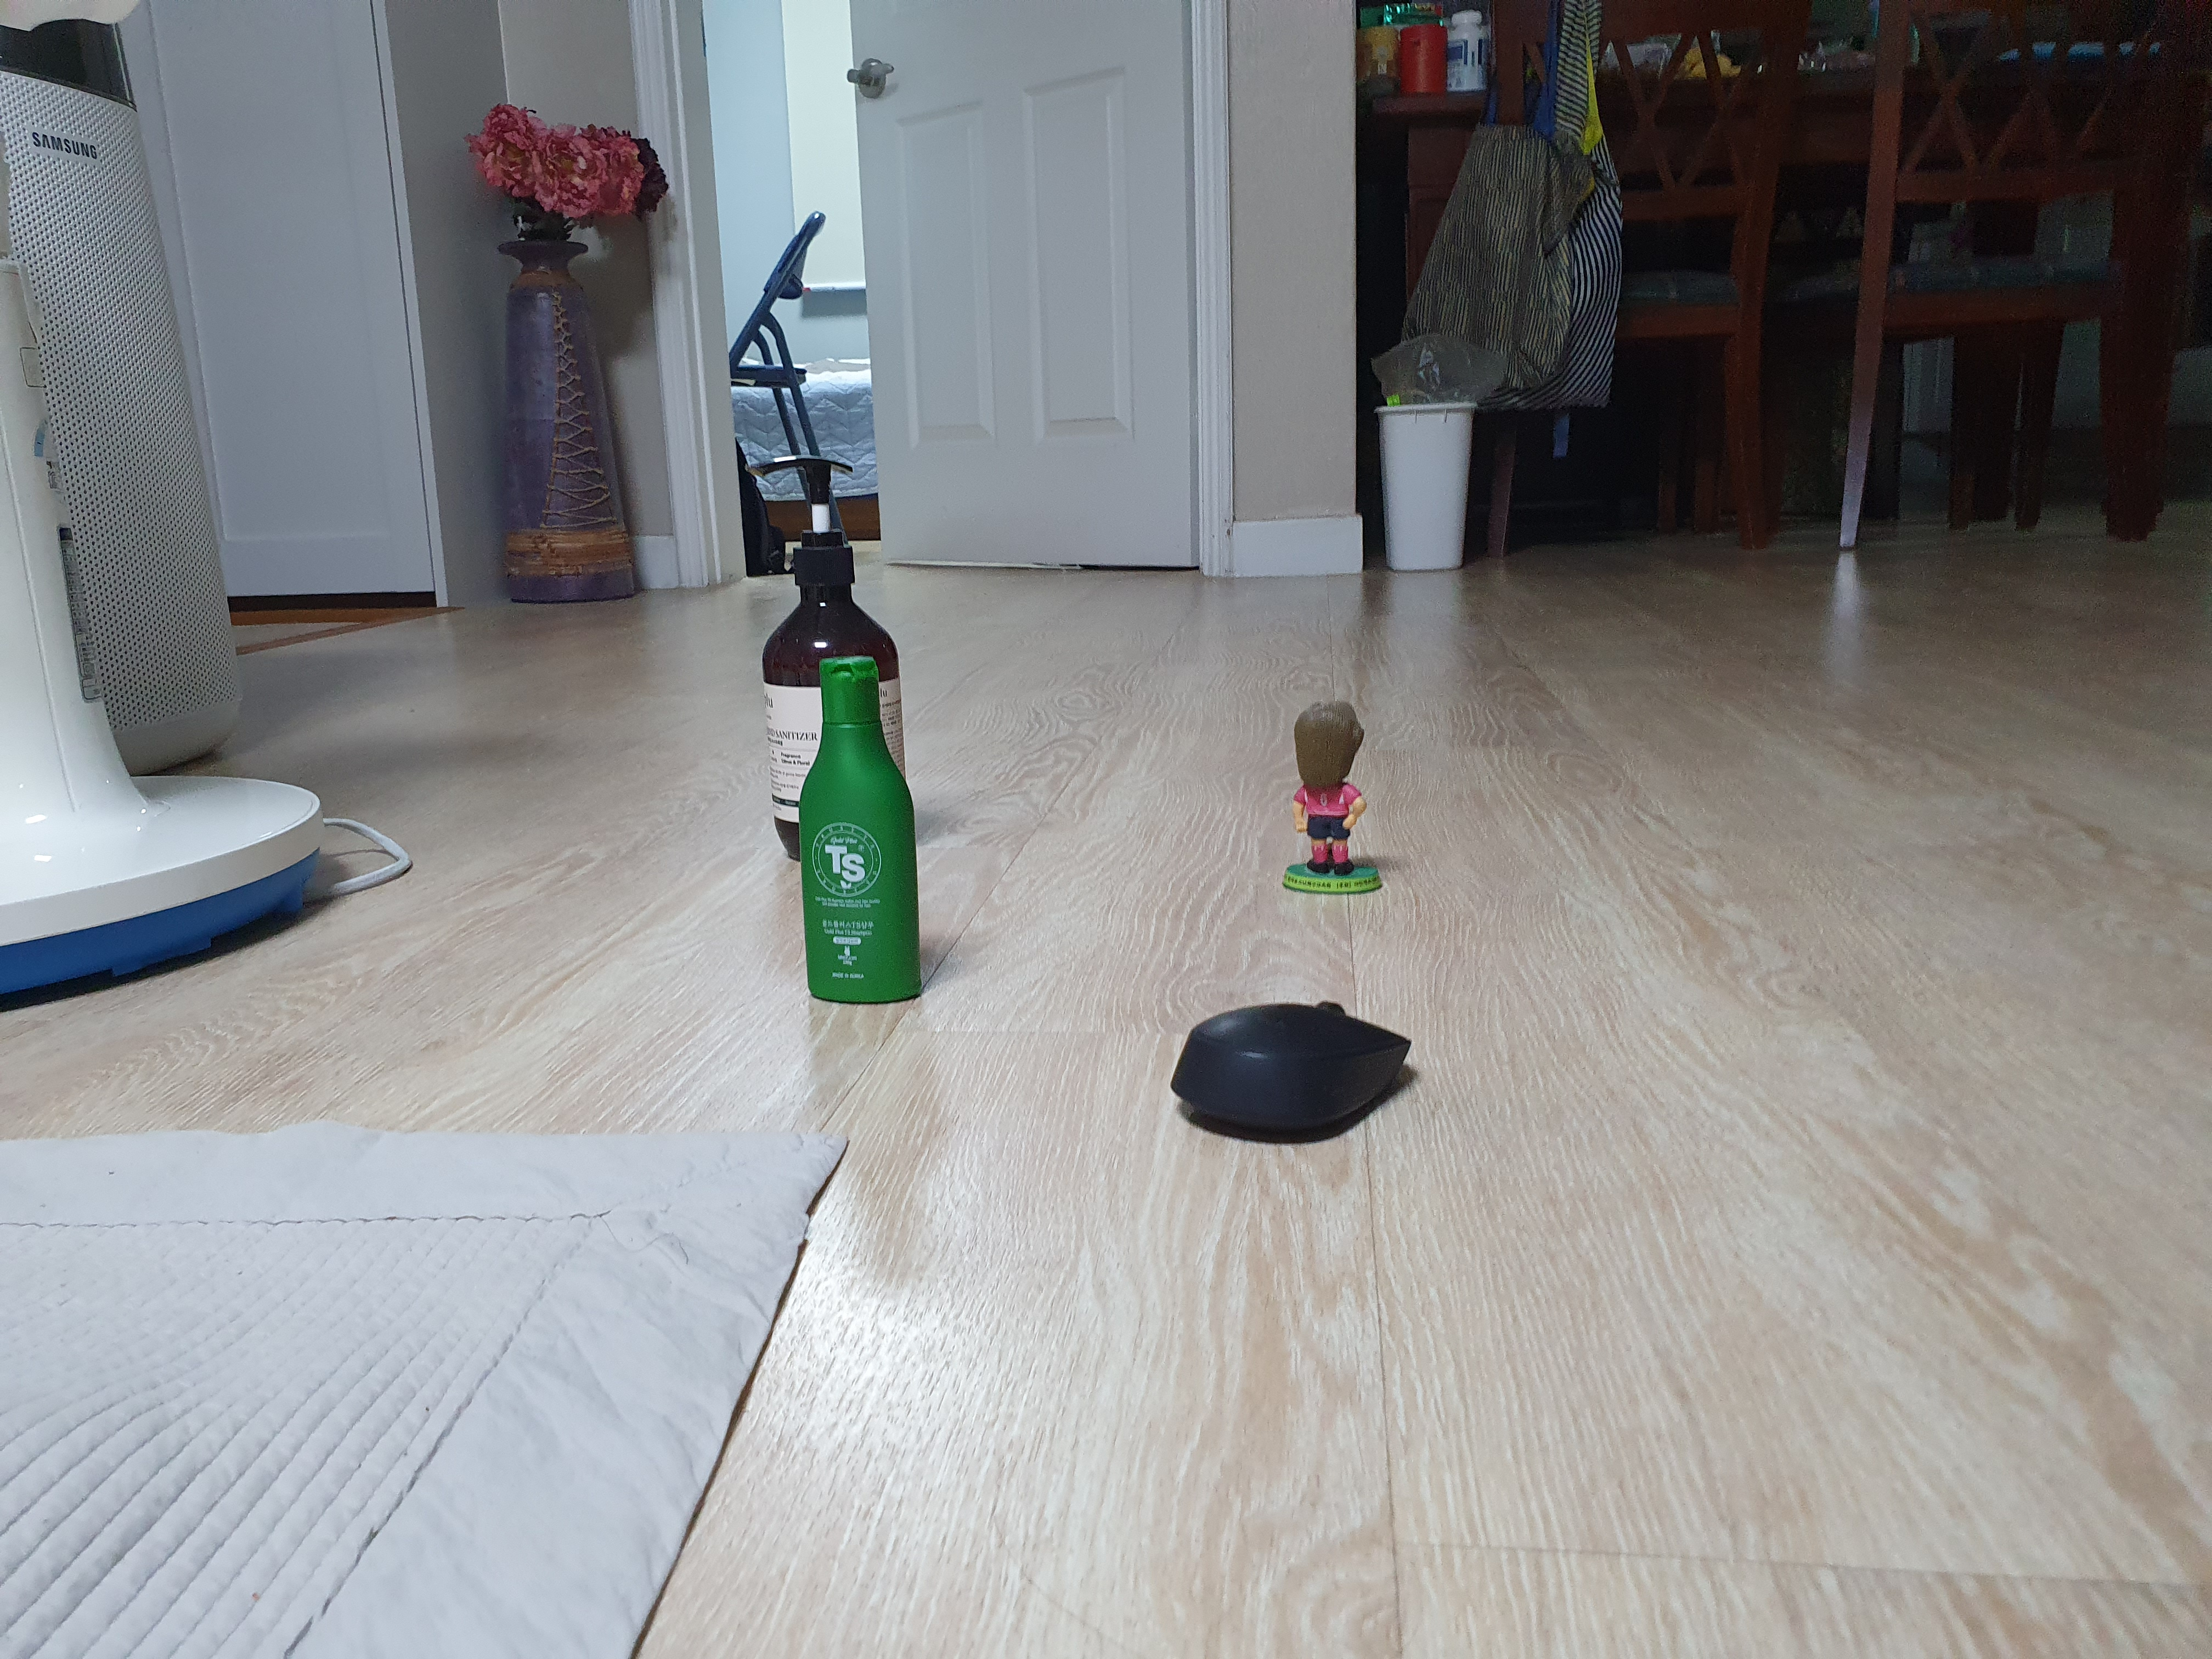bottle: (697, 429, 904, 666)
mouse: (1137, 1012, 1470, 1141)
shampoo: (803, 659, 935, 1032)
yoo: (1264, 709, 1425, 929)
